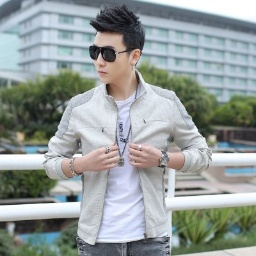face: (89, 6, 145, 84)
